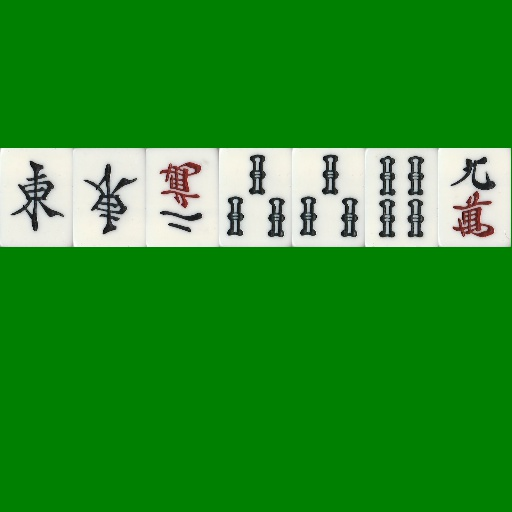2m: (146, 148, 219, 247)
3s: (219, 148, 292, 247), (292, 148, 365, 247)
4s: (365, 148, 438, 247)
9m: (438, 148, 511, 247)
east: (0, 148, 73, 247), (73, 148, 146, 247)
